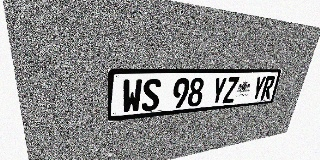8: (187, 77, 205, 107)
9: (171, 78, 190, 109)
R: (260, 76, 276, 99)
S: (141, 78, 161, 112)
W: (122, 79, 142, 114)
Y: (210, 77, 227, 105), (250, 76, 266, 100)
Z: (222, 77, 239, 103)
